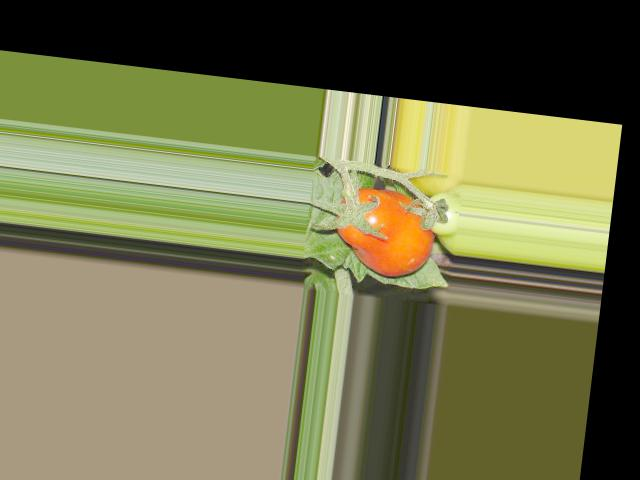tomato: (330, 184, 438, 280)
